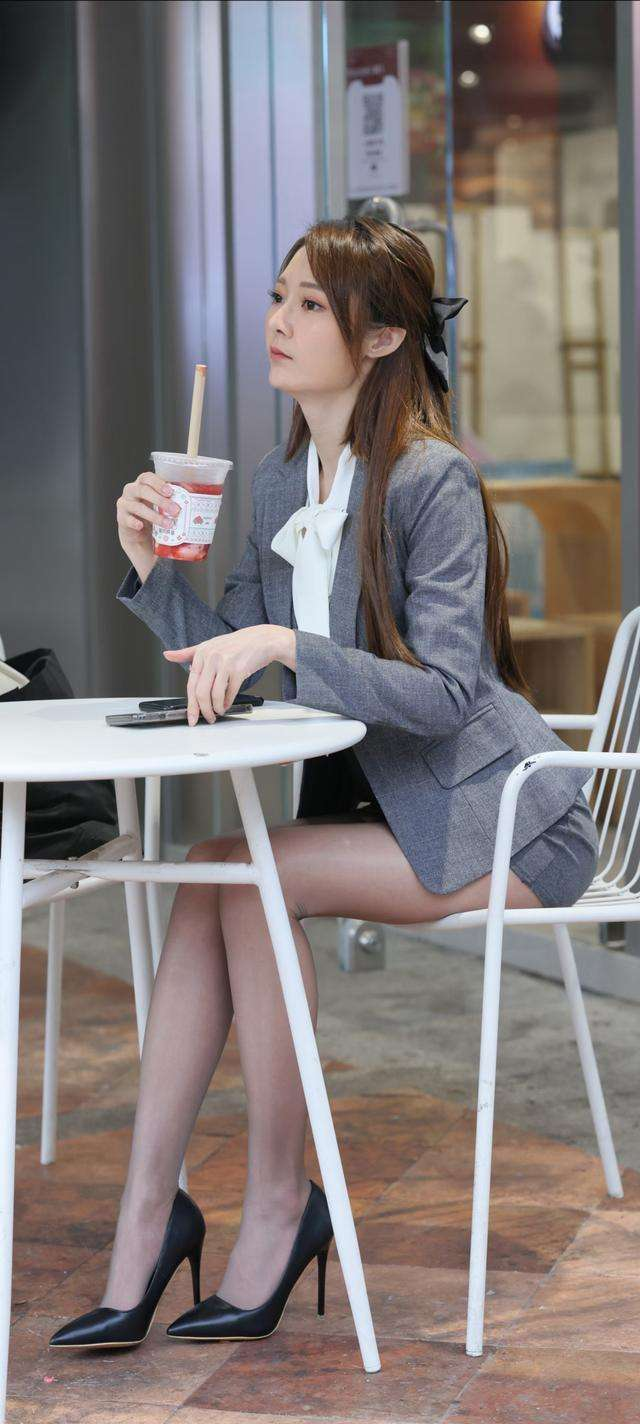person: (204, 160, 563, 1307)
